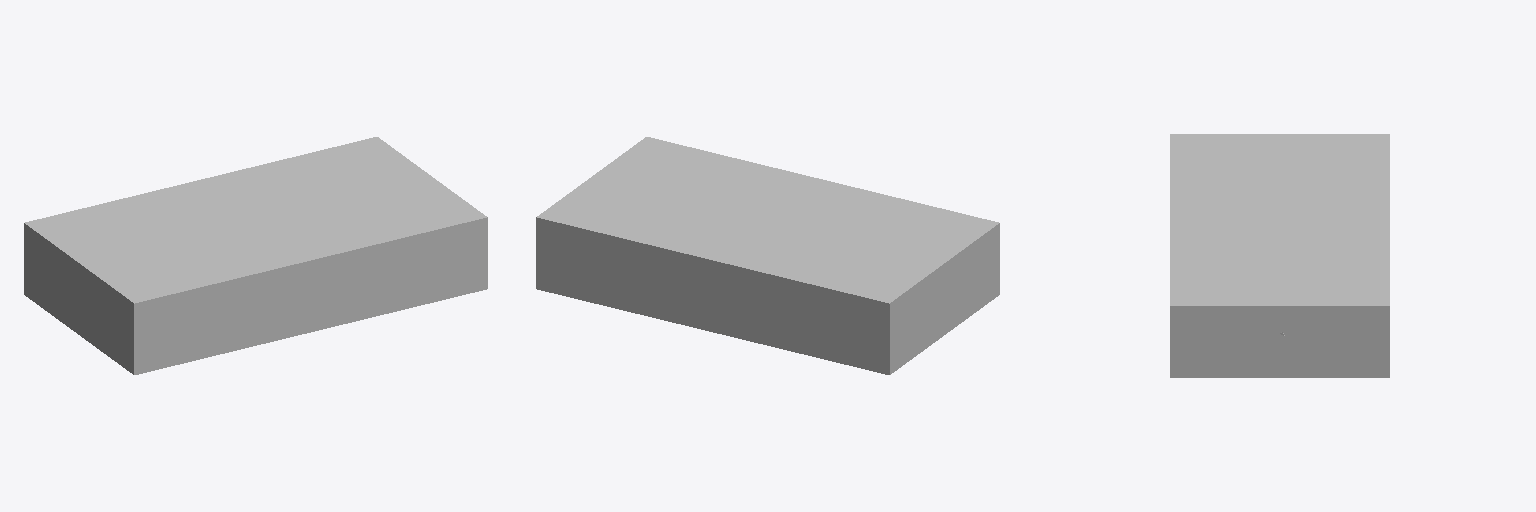
3 views of the same model, side by side, from view 1: azimuth 30°, elevation 25°; view 2: azimuth 150°, elevation 25°; view 3: azimuth 270°, elevation 25° (orthographic).
Visible parts, largest first — view 1: ColliderBox; view 2: ColliderBox; view 3: ColliderBox.
Boxes of the visible parts, x1=… form: ColliderBox: x1=24, y1=137, x2=487, y2=374; ColliderBox: x1=536, y1=137, x2=999, y2=374; ColliderBox: x1=1170, y1=134, x2=1389, y2=377.
Size of the model in its own units: 39.27 by 7.63 by 21.22.